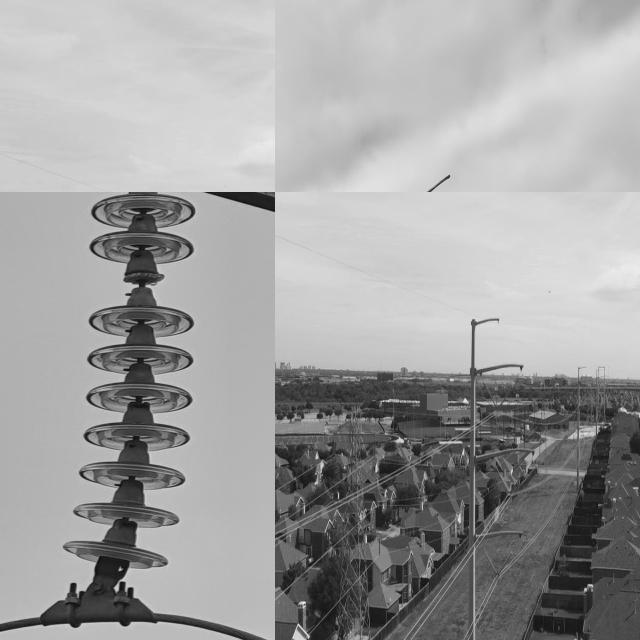杆塔: (329, 391, 389, 640)
正常绝缘子: (67, 192, 213, 591), (494, 379, 518, 416), (493, 547, 516, 583), (480, 543, 500, 581), (506, 466, 527, 500), (493, 460, 512, 497), (481, 380, 500, 414)
绝缘子破损: (123, 260, 165, 298)
